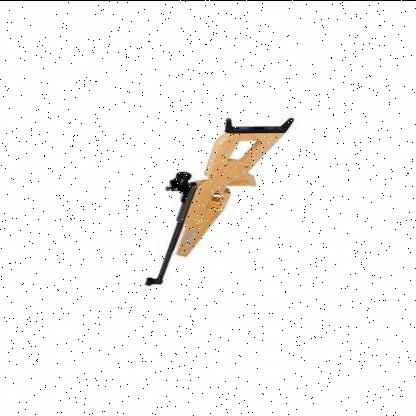rifle: (131, 108, 307, 290)
